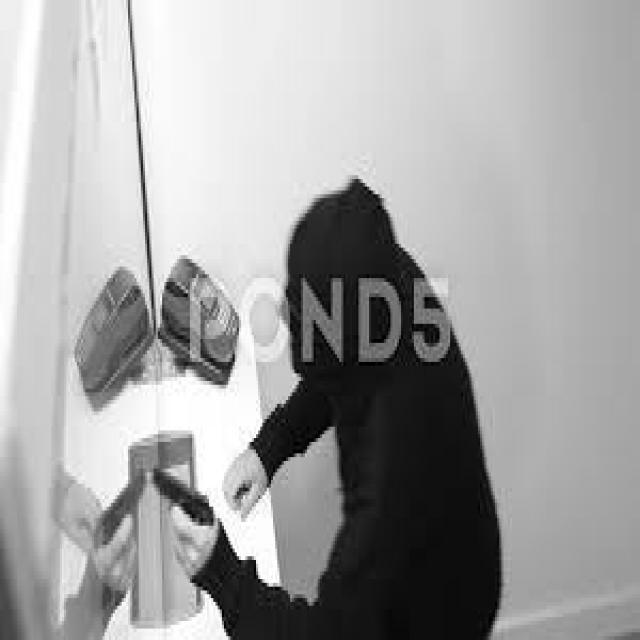weapon: (149, 461, 218, 572), (98, 461, 149, 560)
